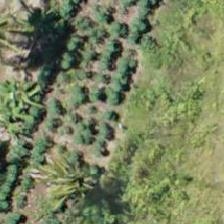coconut_tree: (27, 143, 117, 223)
